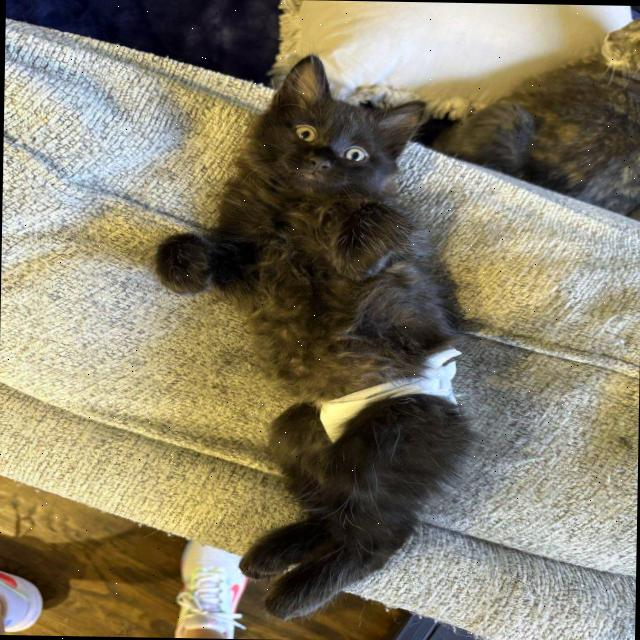manx_cat: (219, 51, 449, 210)
